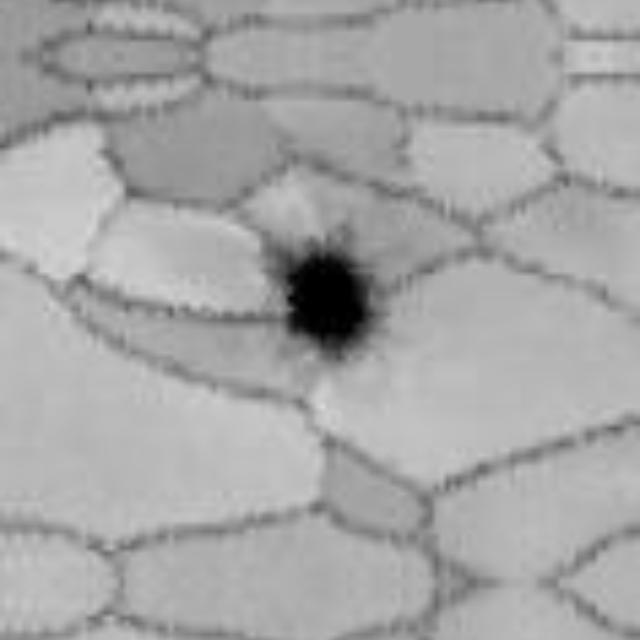good_void: (226, 187, 424, 404)
